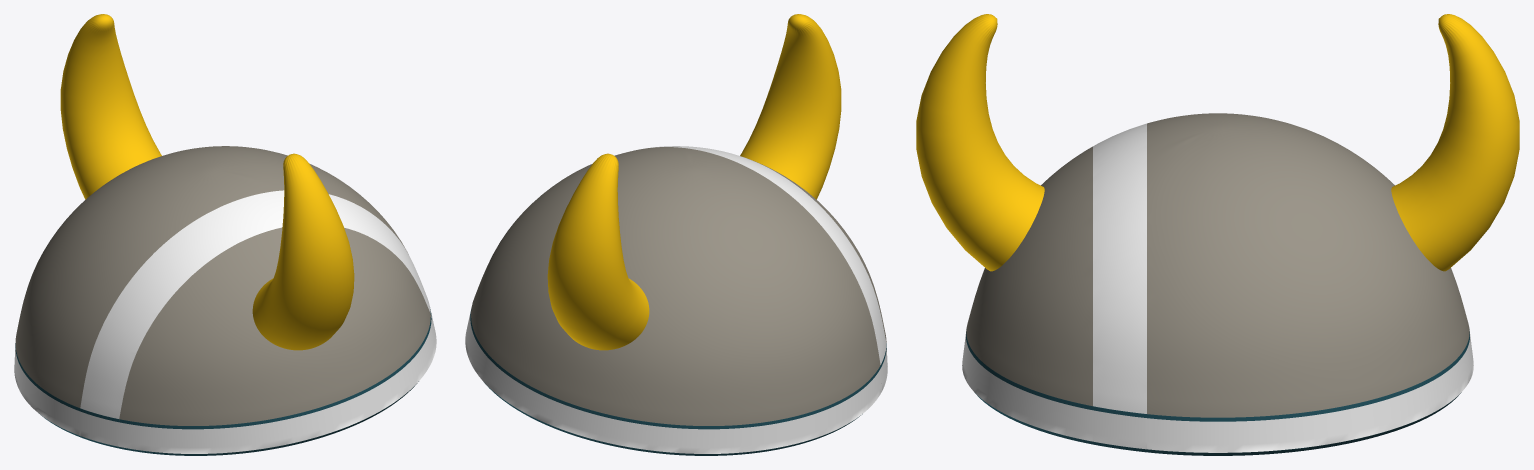
File: Viking hat.glb
3 renders of one model, left to right at view 1: azimuth 30°, elevation 25°; view 2: azimuth 150°, elevation 25°; view 3: azimuth 270°, elevation 25°, orthographic. The views are drawn at different scales.
Visible parts, largest first — view 1: Viking Hat; view 2: Viking Hat; view 3: Viking Hat.
Boxes of the visible parts, <box> form: Viking Hat: <box>14,14,436,455</box>; Viking Hat: <box>465,14,887,455</box>; Viking Hat: <box>916,14,1519,455</box>.
Size of the model in its own units: 0.4624 by 0.3591 by 0.5474.
1 material, 1 textured.
